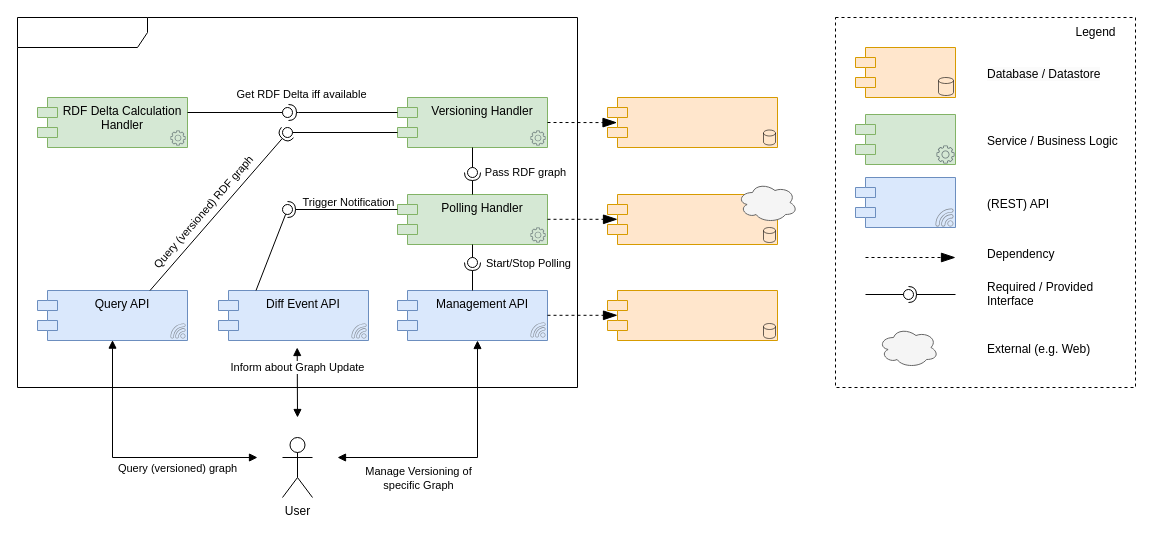
Some shapes in this 1153 by 536 pixel diagram are drawn without their labels. The shapes that lost their labels are listed below. From the top down, each one's box as (x1, y1, x2, y2) in pixels, then its label:
(606, 96, 778, 148): RDF-star Store <<Database>>
(16, 16, 578, 388): StarVersServer
(606, 194, 778, 244): RDF Data <<Ext. Dataset>>
(606, 290, 778, 340): Management Store <<Database>>
